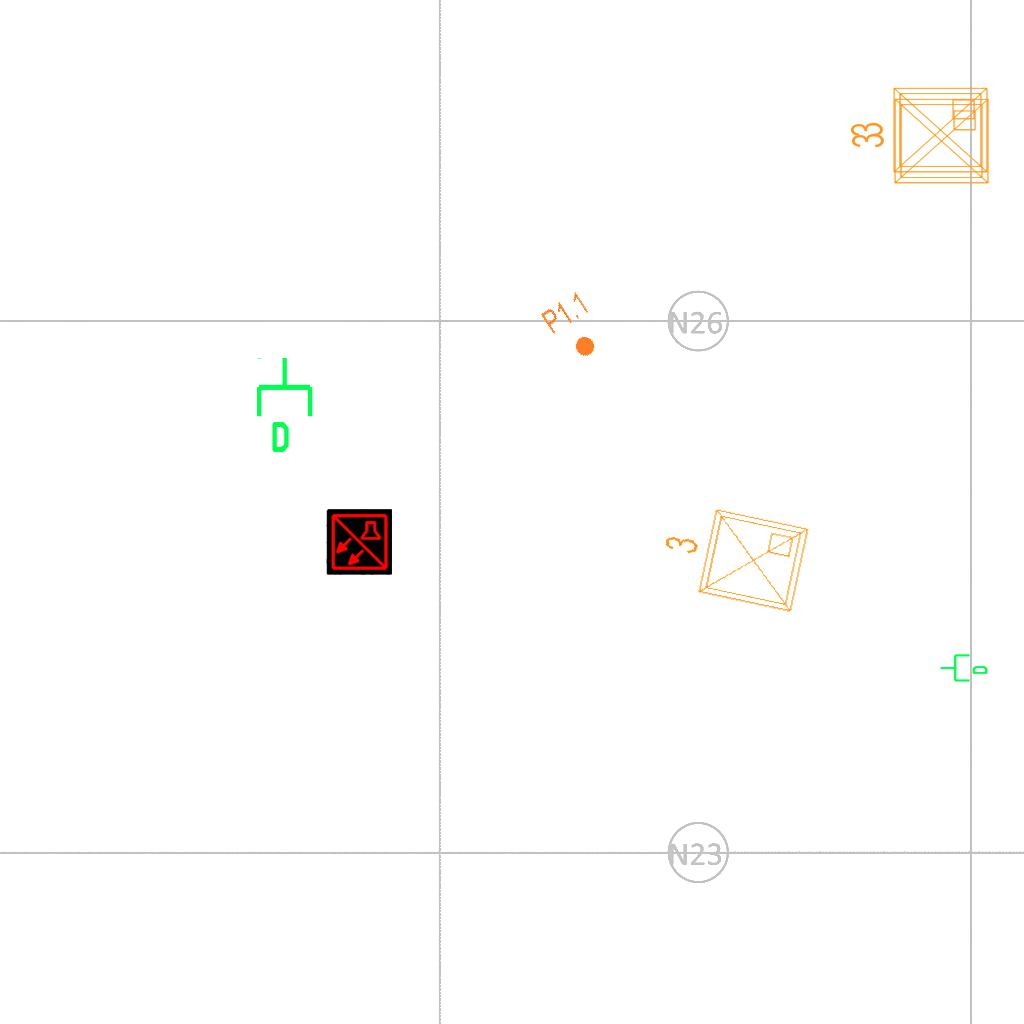Datenanschluss_einfach: (252, 355, 321, 455), (939, 650, 989, 684)
Downlight_LED_Einbauleuchten_Flur: (538, 288, 612, 368)
Einbaudownlights_LED_Konferenzraeume: (648, 491, 818, 625), (845, 80, 995, 184), (846, 91, 996, 195)
OKW_Multisensormelder_(Kombination_optischer_Rauch-Kahlenmonoxid_Waerme-Melder): (326, 509, 392, 575)
